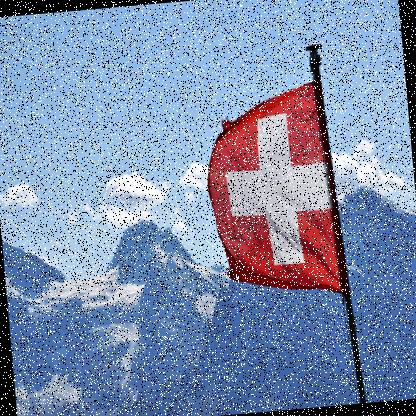ch: (201, 90, 344, 297)
